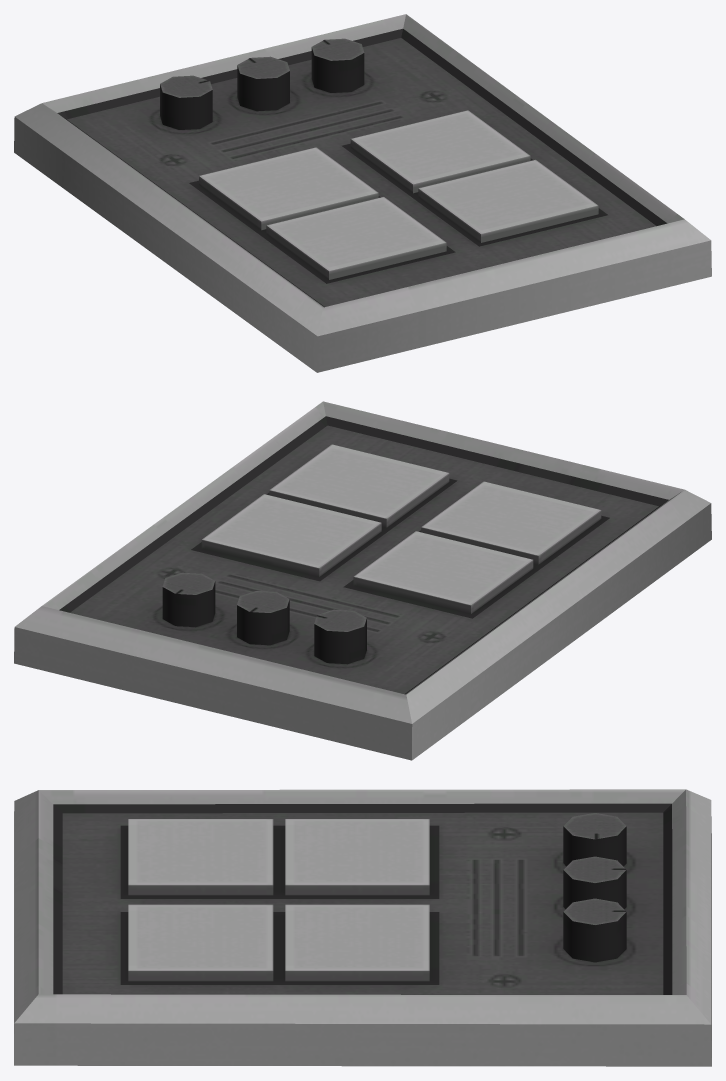
Rendered from nt_lightswitch_LOD0.obj.
3 views of the same model, one above another, from view 1: azimuth 30°, elevation 25°; view 2: azimuth 150°, elevation 25°; view 3: azimuth 270°, elevation 25° (orthographic). The views are drawn at different scales.
Parts seen in each view (by area): view 1: mtl_nt_lightswitch; view 2: mtl_nt_lightswitch; view 3: mtl_nt_lightswitch.
Part boxes in pixels (x1,y1,x2,y2): mtl_nt_lightswitch: [14, 14, 711, 372]; mtl_nt_lightswitch: [14, 401, 711, 760]; mtl_nt_lightswitch: [14, 789, 711, 1066].
Size of the model in its own units: 14.6 by 2.56 by 19.16.
